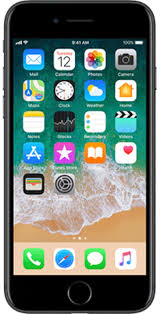iphone: (1, 1, 160, 314)
iphone7: (1, 1, 158, 314)
